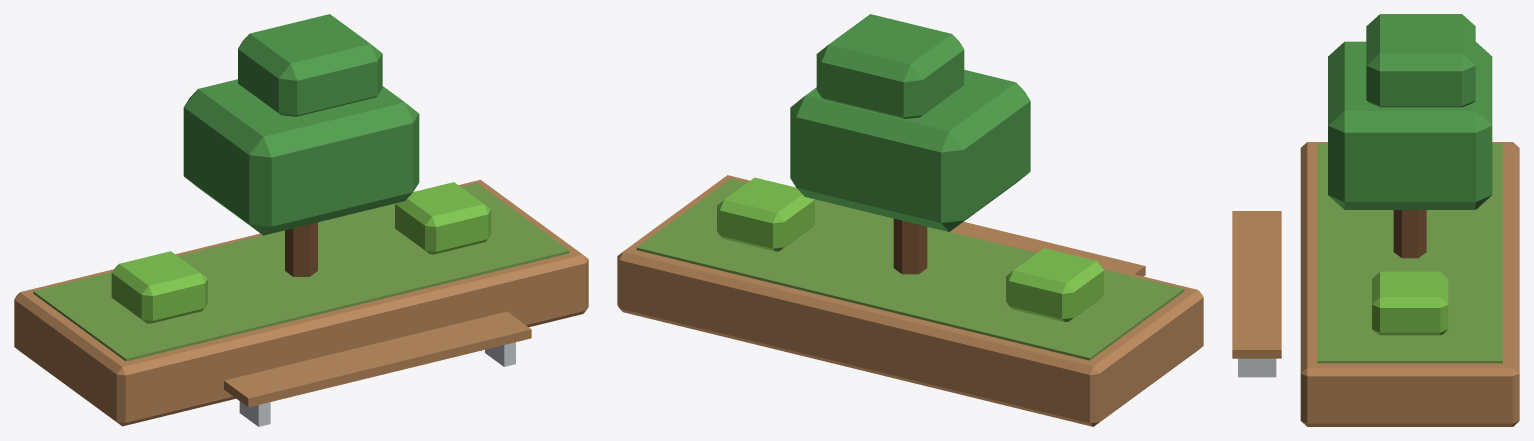
The model's file is d_planter.fbx.
3 renders of one model, left to right at view 1: azimuth 30°, elevation 25°; view 2: azimuth 150°, elevation 25°; view 3: azimuth 270°, elevation 25°, orthographic. The views are drawn at different scales.
Parts seen in each view (by area): view 1: d_planter; view 2: d_planter; view 3: d_planter.
Part boxes in pixels (<box>): d_planter: <box>14,14,588,426</box>; d_planter: <box>617,14,1203,426</box>; d_planter: <box>1232,14,1519,426</box>.
Bounding box in the file's own units: 10 × 5.8 × 5.25.
